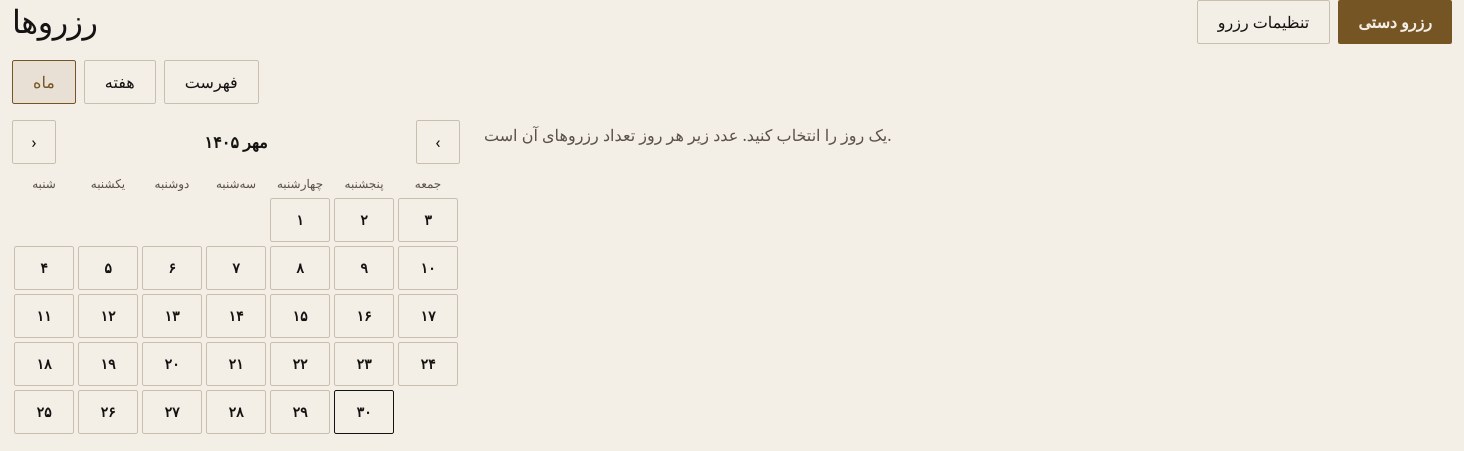
Test: BookingsManager › lists, filters on the server and pages
Click the tab "فهرست" at (211, 82), box [164, 60, 259, 104]
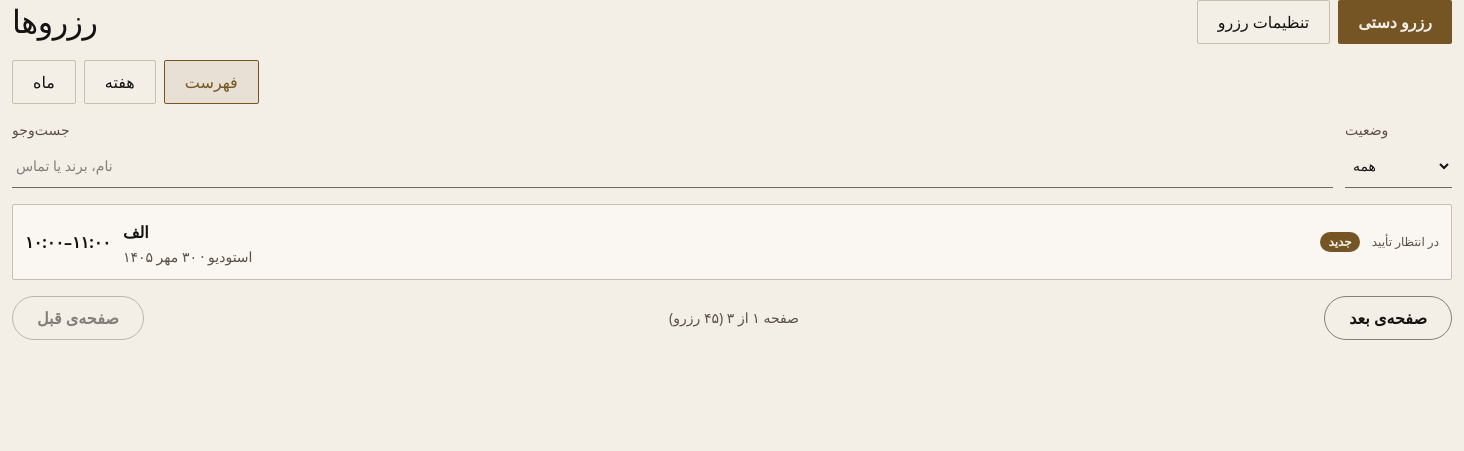
Expected: the text "الف" is shown, [123, 221, 149, 243]
Click the button "صفحه‌ی بعد" at (1388, 318), box [1324, 296, 1452, 340]
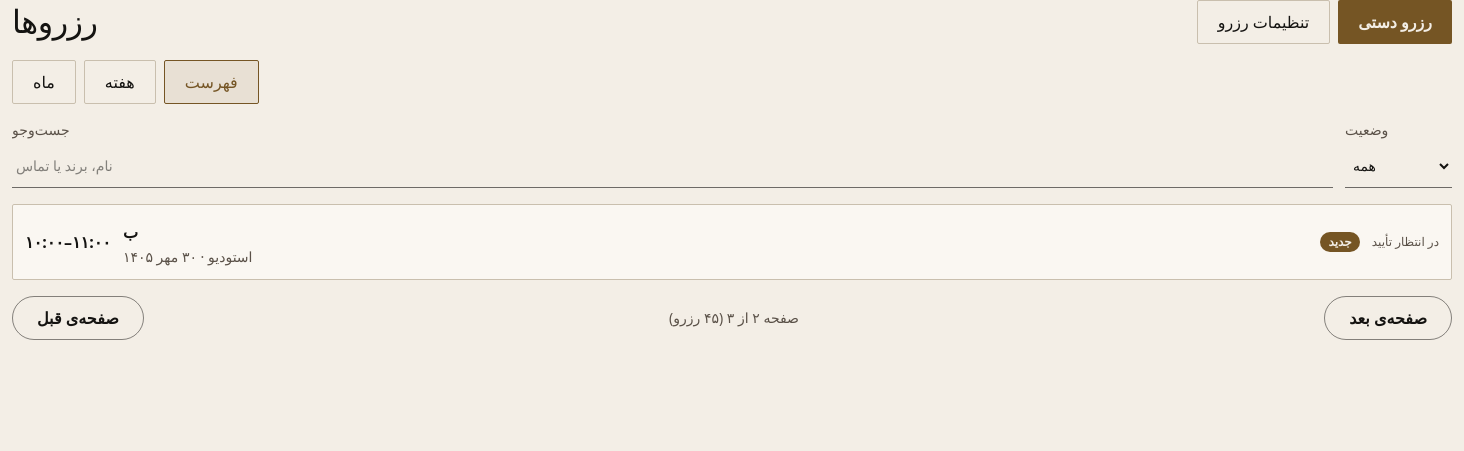
Expected: the text "ب" is shown, [123, 221, 138, 243]
Select "تأییدشده" in the dropdown labelled "وضعیت" at (1398, 166), box [1345, 144, 1452, 188]
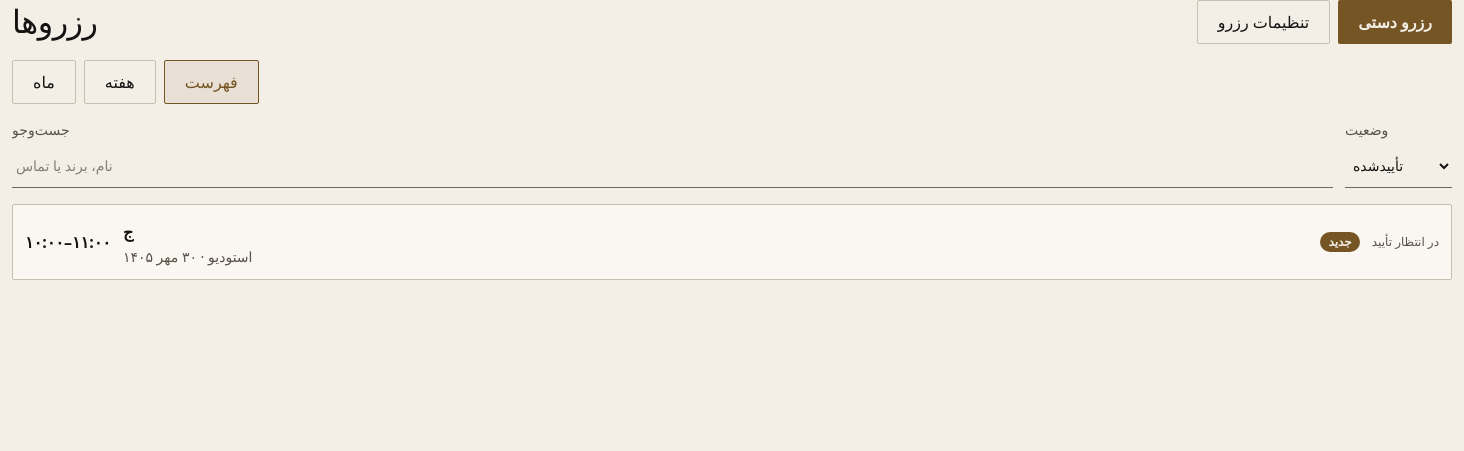
Expected: the text "ج" is shown, [123, 221, 133, 243]
